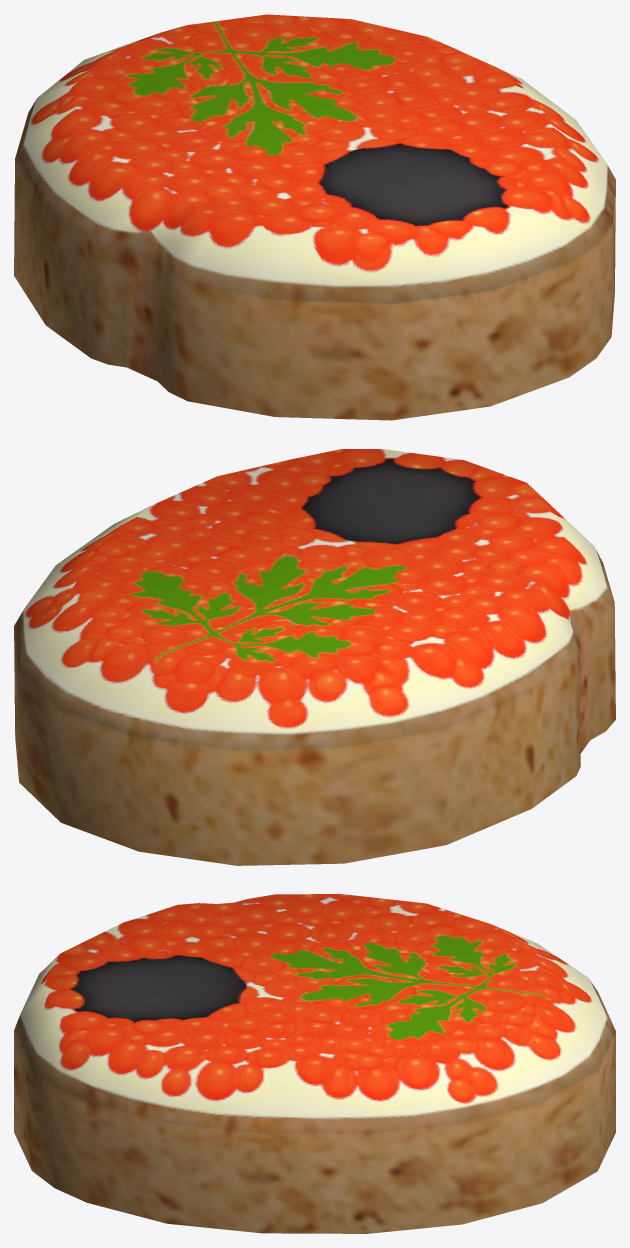
File: BuffetSnacks03_7.FBX
3 views of the same model, one above another, from view 1: azimuth 30°, elevation 25°; view 2: azimuth 150°, elevation 25°; view 3: azimuth 270°, elevation 25° (orthographic). The views are drawn at different scales.
Parts seen in each view (by area): view 1: BuffetSnacks03_7; view 2: BuffetSnacks03_7; view 3: BuffetSnacks03_7.
Part boxes in pixels (left/top/right/bottom): BuffetSnacks03_7: left=14, top=14, right=615, bottom=420; BuffetSnacks03_7: left=14, top=449, right=615, bottom=865; BuffetSnacks03_7: left=14, top=894, right=615, bottom=1233.
Size of what is drawn, in the model's own units: 0.1017 by 0.0331 by 0.1224.
